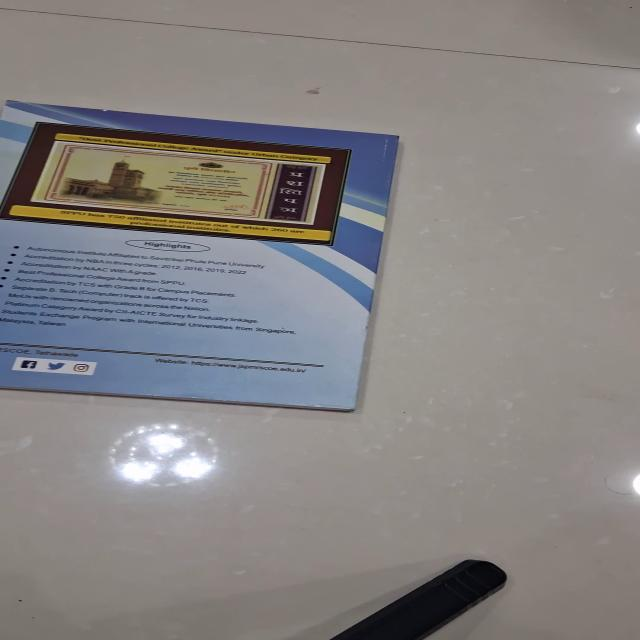paper: (1, 100, 400, 412)
